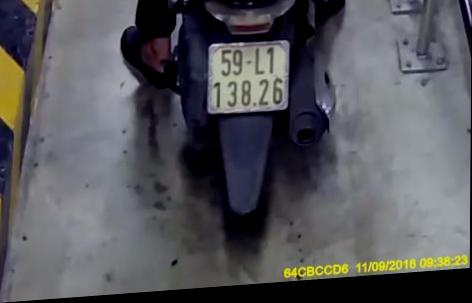License_Plate: (198, 29, 294, 124)
